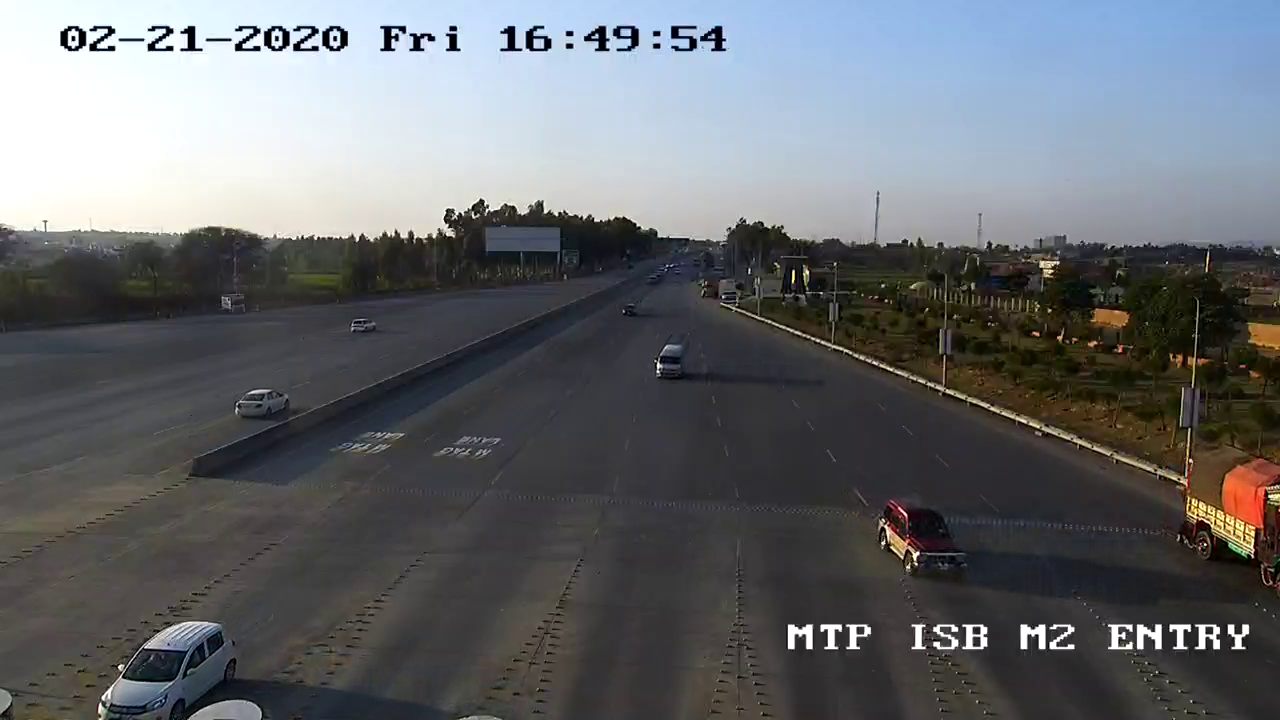f1: (89, 612, 240, 720), (869, 489, 980, 594)
